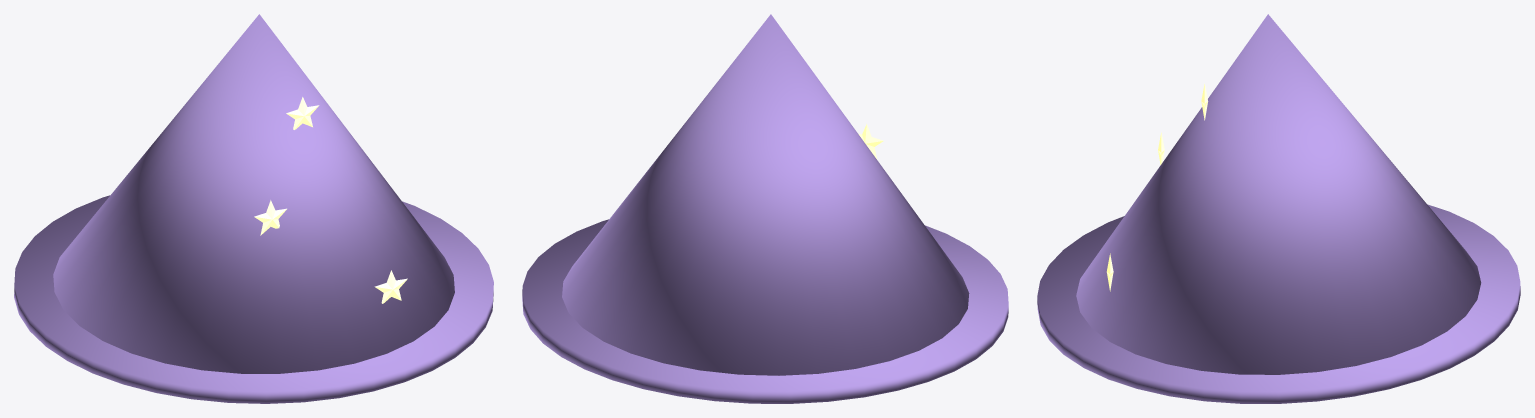
The model's file is wizard_hat.glb.
The picture shows the model from 3 angles, left to right: view 1: azimuth 30°, elevation 25°; view 2: azimuth 150°, elevation 25°; view 3: azimuth 270°, elevation 25°; orthographic projection.
Parts seen in each view (by area): view 1: wizard_hat; view 2: wizard_hat; view 3: wizard_hat.
Part boxes in pixels (x1,y1,x2,y2): wizard_hat: (14,14,493,403); wizard_hat: (522,14,1008,403); wizard_hat: (1037,14,1520,403).
Bounding box in the file's own units: 0.7 × 0.4721 × 0.7003.
